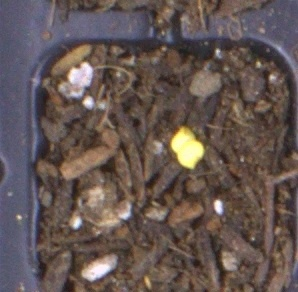chilli seed: (177, 140, 204, 169), (170, 125, 196, 153)
